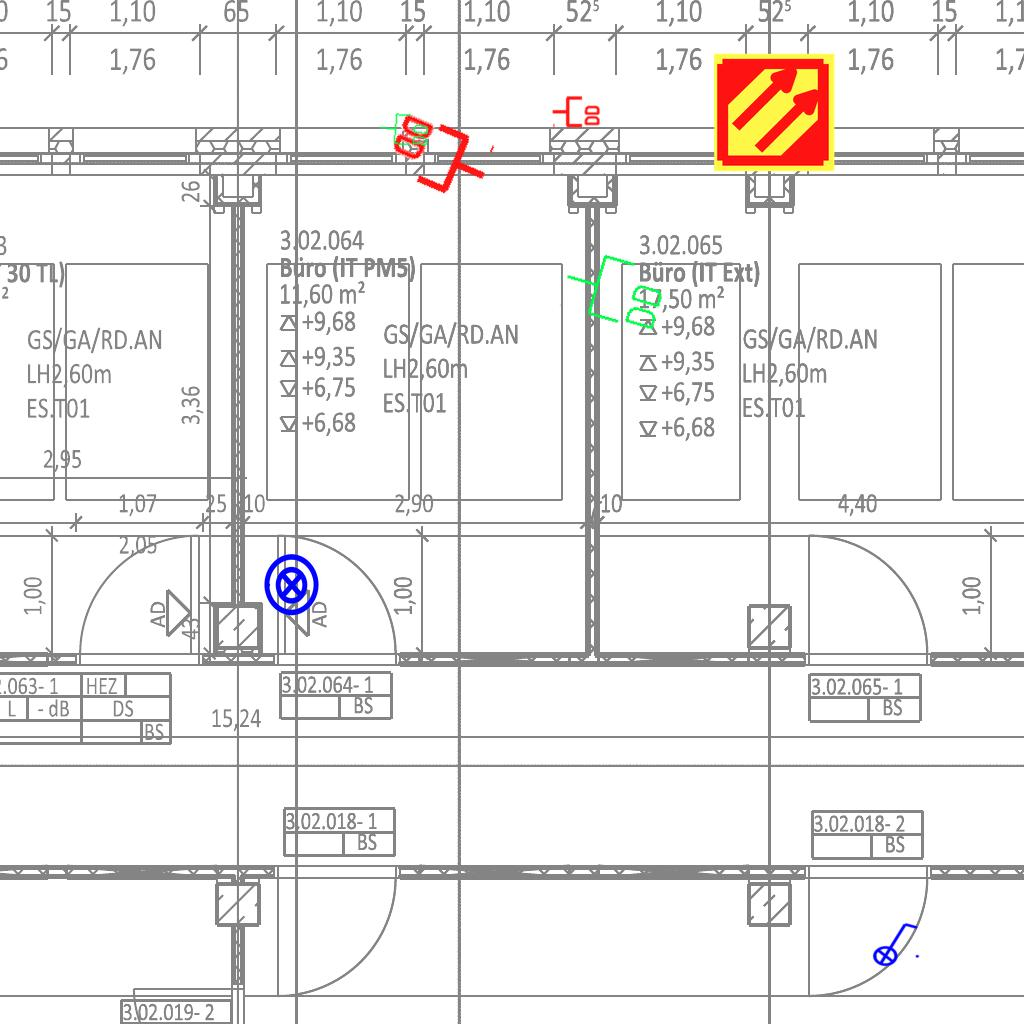ASR_Ansaugrauchmelder: (712, 50, 837, 175)
Ausschalter_beleuchtet: (866, 919, 922, 967)
Datenanschluss_zweifach: (377, 106, 500, 211), (555, 243, 674, 338), (377, 110, 432, 150), (551, 94, 602, 128)
Taster_beleuchtet: (259, 552, 325, 618)
